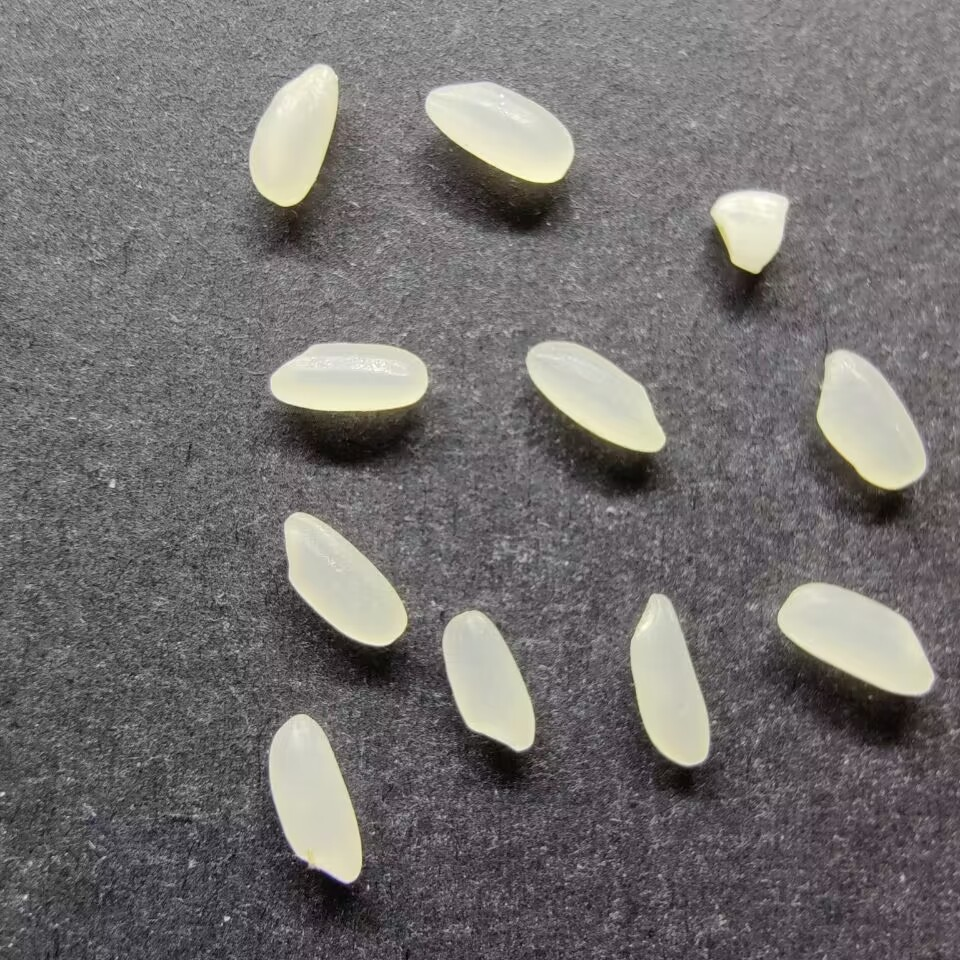broken: (709, 187, 792, 275)
rice: (775, 581, 934, 697), (281, 510, 410, 648), (265, 712, 365, 885), (523, 339, 669, 455), (423, 80, 577, 185), (813, 348, 927, 489), (626, 592, 714, 766), (440, 608, 539, 754), (246, 61, 340, 208), (267, 340, 430, 412)
